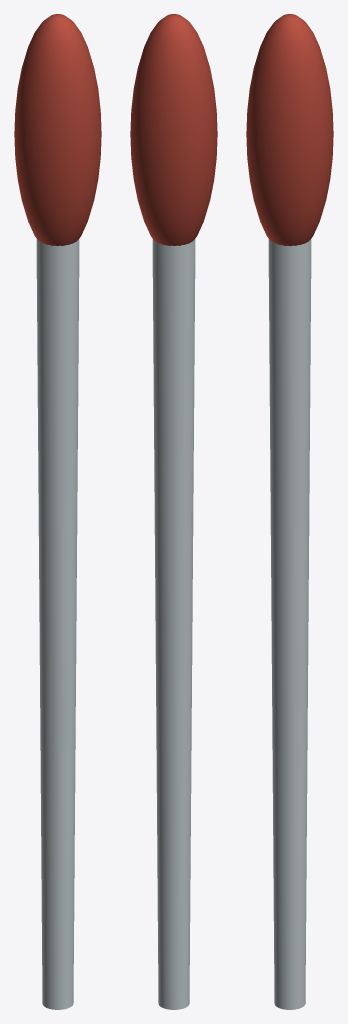
File: wp-pipette.glb
The picture shows the model from 3 angles, left to right: view 1: azimuth 30°, elevation 25°; view 2: azimuth 150°, elevation 25°; view 3: azimuth 330°, elevation 25°; orthographic projection.
Parts seen in each view (by area): view 1: wp-pipette; view 2: wp-pipette; view 3: wp-pipette.
Boxes of the visible parts, x1=… form: wp-pipette: x1=14, y1=14, x2=101, y2=1009; wp-pipette: x1=130, y1=14, x2=217, y2=1009; wp-pipette: x1=246, y1=14, x2=333, y2=1009.
Bounding box in the file's own units: 0.02 × 0.25 × 0.02.
